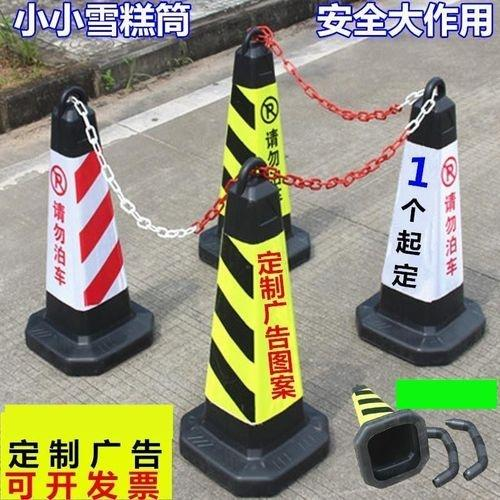cone_barrel: (177, 148, 327, 479), (354, 72, 486, 353), (23, 88, 154, 368), (197, 37, 304, 257)
